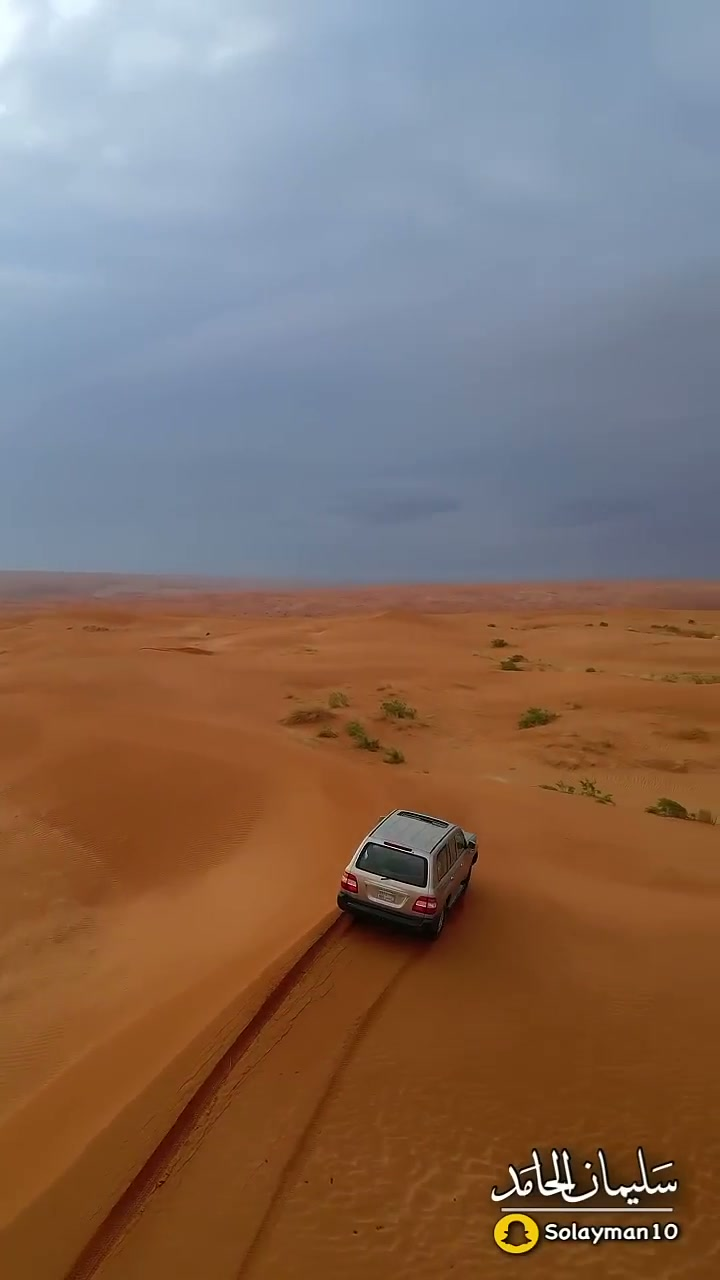vehicle_track: (64, 920, 349, 1279), (236, 939, 424, 1279)
